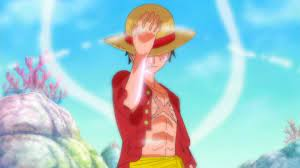Luffy: (126, 4, 180, 79)
